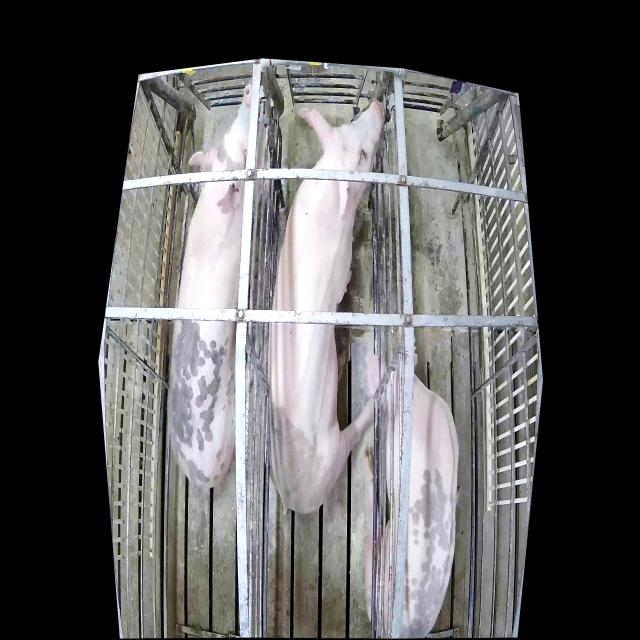pig: (267, 101, 384, 516), (165, 82, 258, 493), (365, 329, 461, 634)
